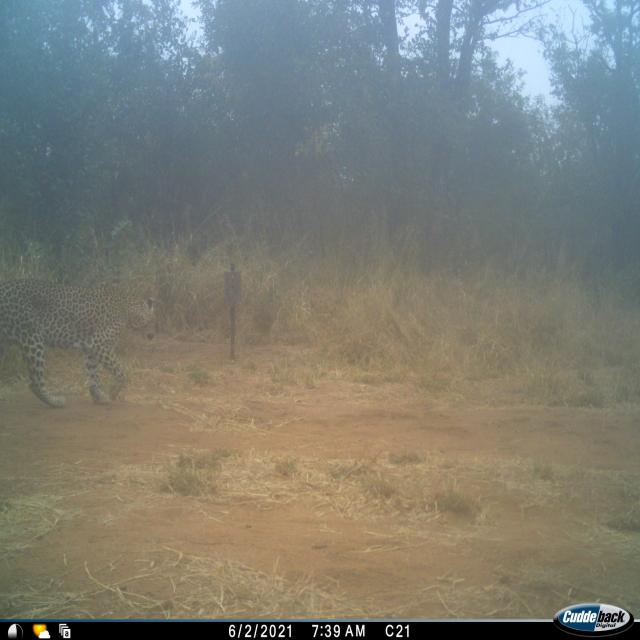Leopard: (0, 240, 155, 433)
